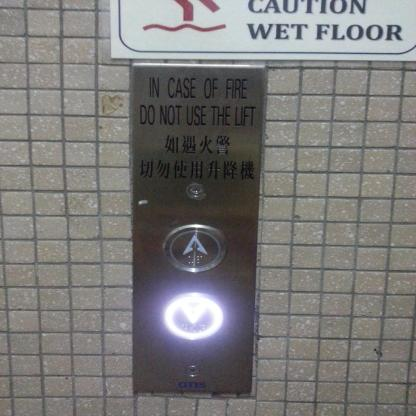down: (160, 293, 227, 342)
up: (161, 224, 228, 274)
